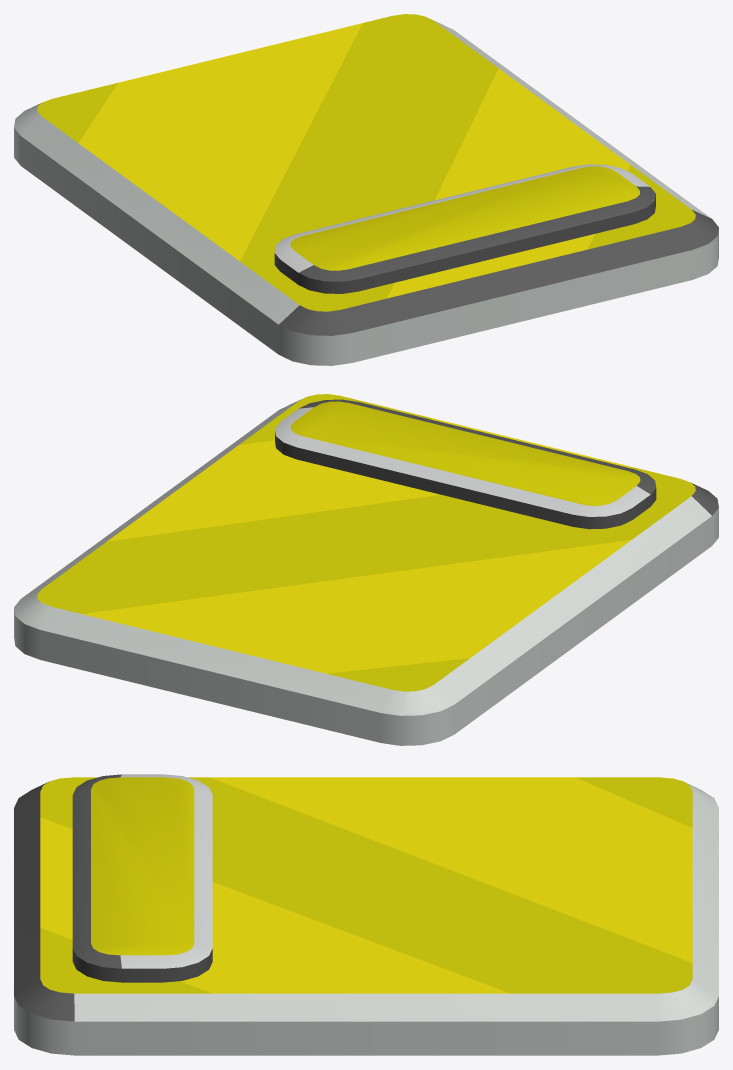
The model's file is handle.fbx.
3 views of the same model, one above another, from view 1: azimuth 30°, elevation 25°; view 2: azimuth 150°, elevation 25°; view 3: azimuth 270°, elevation 25° (orthographic). The views are drawn at different scales.
Parts seen in each view (by area): view 1: Plane.006; view 2: Plane.006; view 3: Plane.006.
Part boxes in pixels (box(x1,y1,x2,y2)): Plane.006: box(14, 14, 718, 365); Plane.006: box(14, 394, 718, 745); Plane.006: box(14, 774, 718, 1055).
Size of the model in its own units: 763 by 103 by 950.
